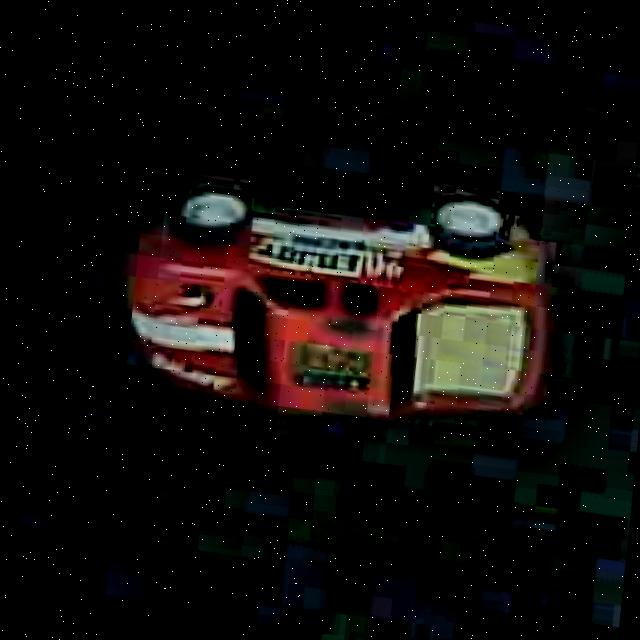car: (108, 144, 575, 451)
